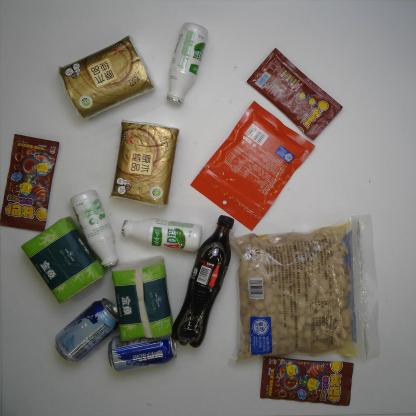Alcohol: (54, 297, 120, 363), (107, 328, 178, 372)
Candy: (246, 47, 343, 142), (0, 132, 60, 233), (260, 356, 354, 407)
Dried Food: (228, 212, 382, 366)
Dried Fruit: (189, 99, 316, 232)
Drink: (168, 214, 236, 349)
Milk: (70, 188, 121, 270), (165, 20, 209, 106), (120, 217, 203, 253)
Tissue: (57, 34, 155, 122), (21, 215, 107, 306), (108, 119, 180, 208), (111, 255, 173, 343)
